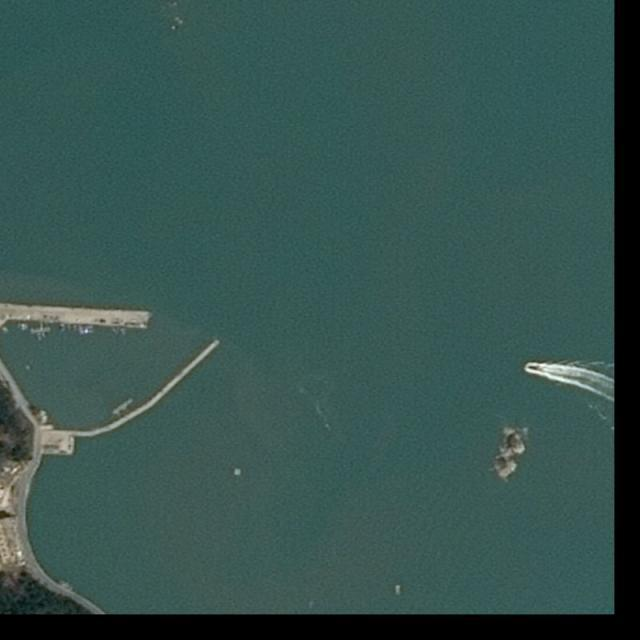ship: (112, 397, 135, 416), (394, 583, 402, 597), (526, 365, 539, 372), (233, 468, 242, 476)
